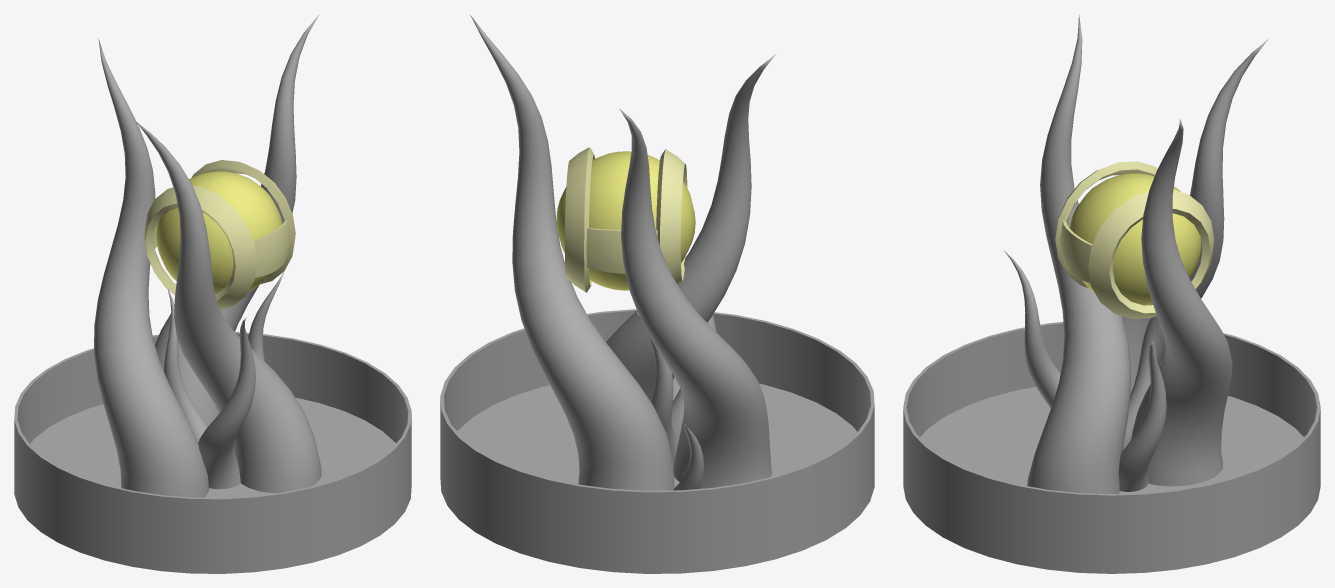
File: centerPiece.fbx
The picture shows the model from 3 angles, left to right: view 1: azimuth 30°, elevation 25°; view 2: azimuth 150°, elevation 25°; view 3: azimuth 270°, elevation 25°; orthographic projection. The views are drawn at different scales.
Visible parts, largest first — view 1: polySurface1, pCone4, pCone3, polySurface2, pasted__TestFrame, pasted__pSphere2, pCone2, pCone5, pCone7, pCone6; view 2: polySurface1, pCone2, polySurface2, pCone4, pCone3, pasted__TestFrame, pasted__pSphere2, pCone7, pCone8, pCone5; view 3: polySurface1, polySurface2, pCone3, pCone2, pasted__TestFrame, pasted__pSphere2, pCone4, pCone6, pCone5, pCone7.
Part boxes in pixels (x1=…): polySurface1: x1=14, y1=332, x2=411, y2=556; pCone4: x1=94, y1=39, x2=208, y2=497; pCone3: x1=136, y1=121, x2=321, y2=493; polySurface2: x1=14, y1=397, x2=411, y2=573; pasted__TestFrame: x1=144, y1=160, x2=295, y2=309; pasted__pSphere2: x1=156, y1=171, x2=282, y2=294; pCone2: x1=155, y1=15, x2=318, y2=426; pCone5: x1=198, y1=316, x2=255, y2=489; pCone7: x1=164, y1=290, x2=207, y2=442; pCone6: x1=248, y1=271, x2=284, y2=361; polySurface1: x1=440, y1=309, x2=874, y2=554; pCone2: x1=470, y1=15, x2=674, y2=490; polySurface2: x1=440, y1=377, x2=874, y2=573; pCone4: x1=619, y1=108, x2=772, y2=488; pCone3: x1=606, y1=54, x2=775, y2=401; pasted__TestFrame: x1=564, y1=147, x2=687, y2=292; pasted__pSphere2: x1=556, y1=151, x2=695, y2=290; pCone7: x1=637, y1=312, x2=678, y2=466; pCone8: x1=674, y1=424, x2=703, y2=490; pCone5: x1=671, y1=314, x2=716, y2=438; polySurface1: x1=903, y1=322, x2=1320, y2=555; polySurface2: x1=903, y1=387, x2=1320, y2=573; pCone3: x1=1027, y1=15, x2=1131, y2=493; pCone2: x1=1131, y1=119, x2=1232, y2=486; pasted__TestFrame: x1=1055, y1=161, x2=1214, y2=318; pasted__pSphere2: x1=1069, y1=173, x2=1200, y2=305; pCone4: x1=1122, y1=39, x2=1268, y2=393; pCone6: x1=1118, y1=341, x2=1166, y2=491; pCone5: x1=1004, y1=250, x2=1060, y2=408; pCone7: x1=1123, y1=316, x2=1159, y2=449.
Size of the model in its own units: 9.68 by 12.79 by 9.68.
